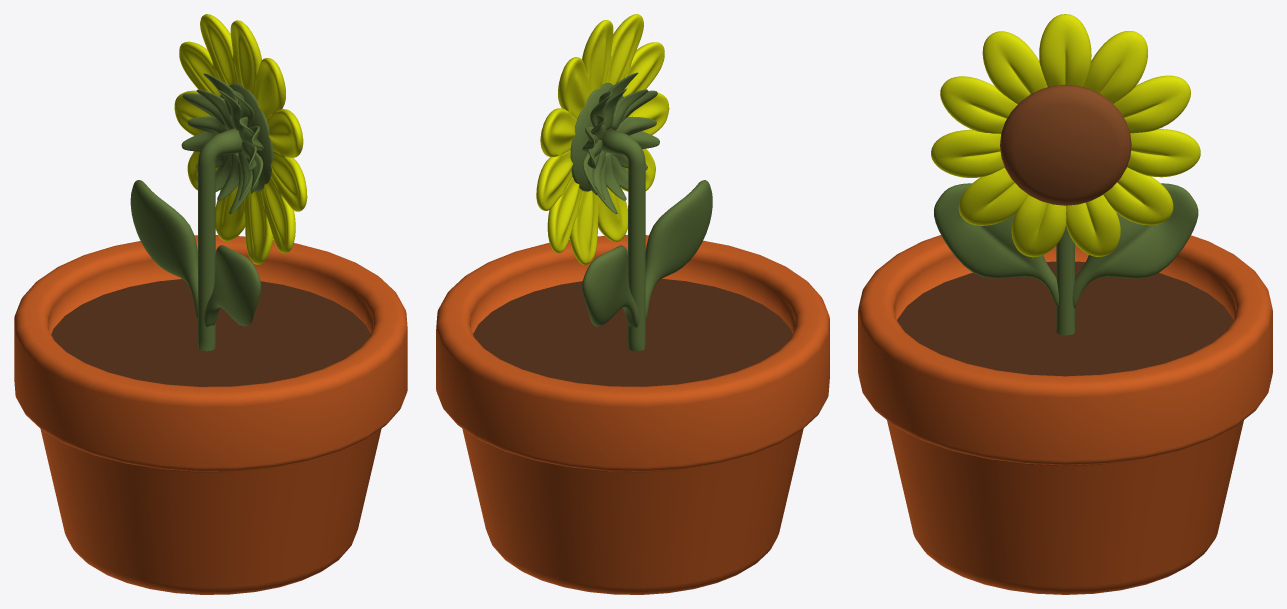
File: sunflower_vanilla.glb
3 renders of one model, left to right at view 1: azimuth 30°, elevation 25°; view 2: azimuth 150°, elevation 25°; view 3: azimuth 270°, elevation 25°, orthographic. The views are drawn at different scales.
Visible parts, largest first — view 1: Pot.001, Plane, Plane.005, Cylinder.001, Plane.004, Plane.003, Plane.001, Circle.002; view 2: Pot.001, Plane, Plane.004, Cylinder.001, Plane.005, Plane.001, Plane.003, Circle.002; view 3: Pot.001, Plane, Circle.001, Plane.005, Plane.004, Cylinder.001.
Part boxes in pixels (x1,y1,x2,y2): Pot.001: (14,235,407,594); Plane: (174,14,307,264); Plane.005: (130,180,197,319); Cylinder.001: (198,128,242,351); Plane.004: (204,245,261,326); Plane.003: (181,73,263,214); Plane.001: (187,89,256,200); Circle.002: (220,83,273,191); Pot.001: (436,235,829,594); Plane: (536,14,669,264); Plane.004: (645,180,712,319); Cylinder.001: (602,128,645,351); Plane.005: (582,245,639,327); Plane.001: (587,88,656,200); Plane.003: (582,72,659,213); Circle.002: (570,83,623,191); Pot.001: (858,235,1272,594); Plane: (931,14,1200,257); Circle.001: (1000,84,1131,205); Plane.005: (1072,183,1198,307); Plane.004: (934,183,1058,307); Cylinder.001: (1056,226,1074,335).
Bounding box in the file's own units: 0.6632 × 0.9482 × 0.6632.
